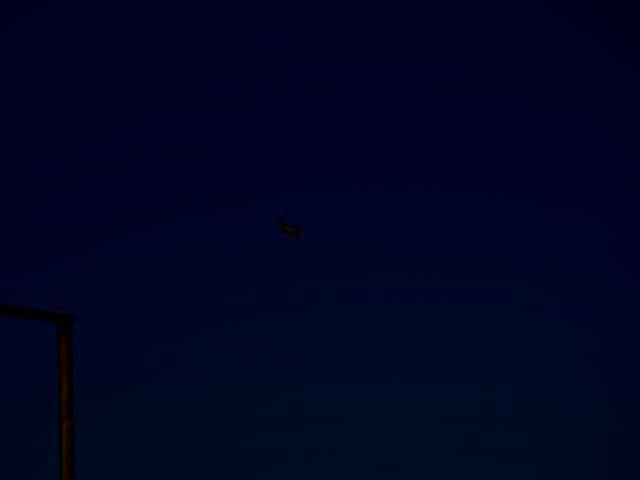iha: (278, 217, 307, 238)
